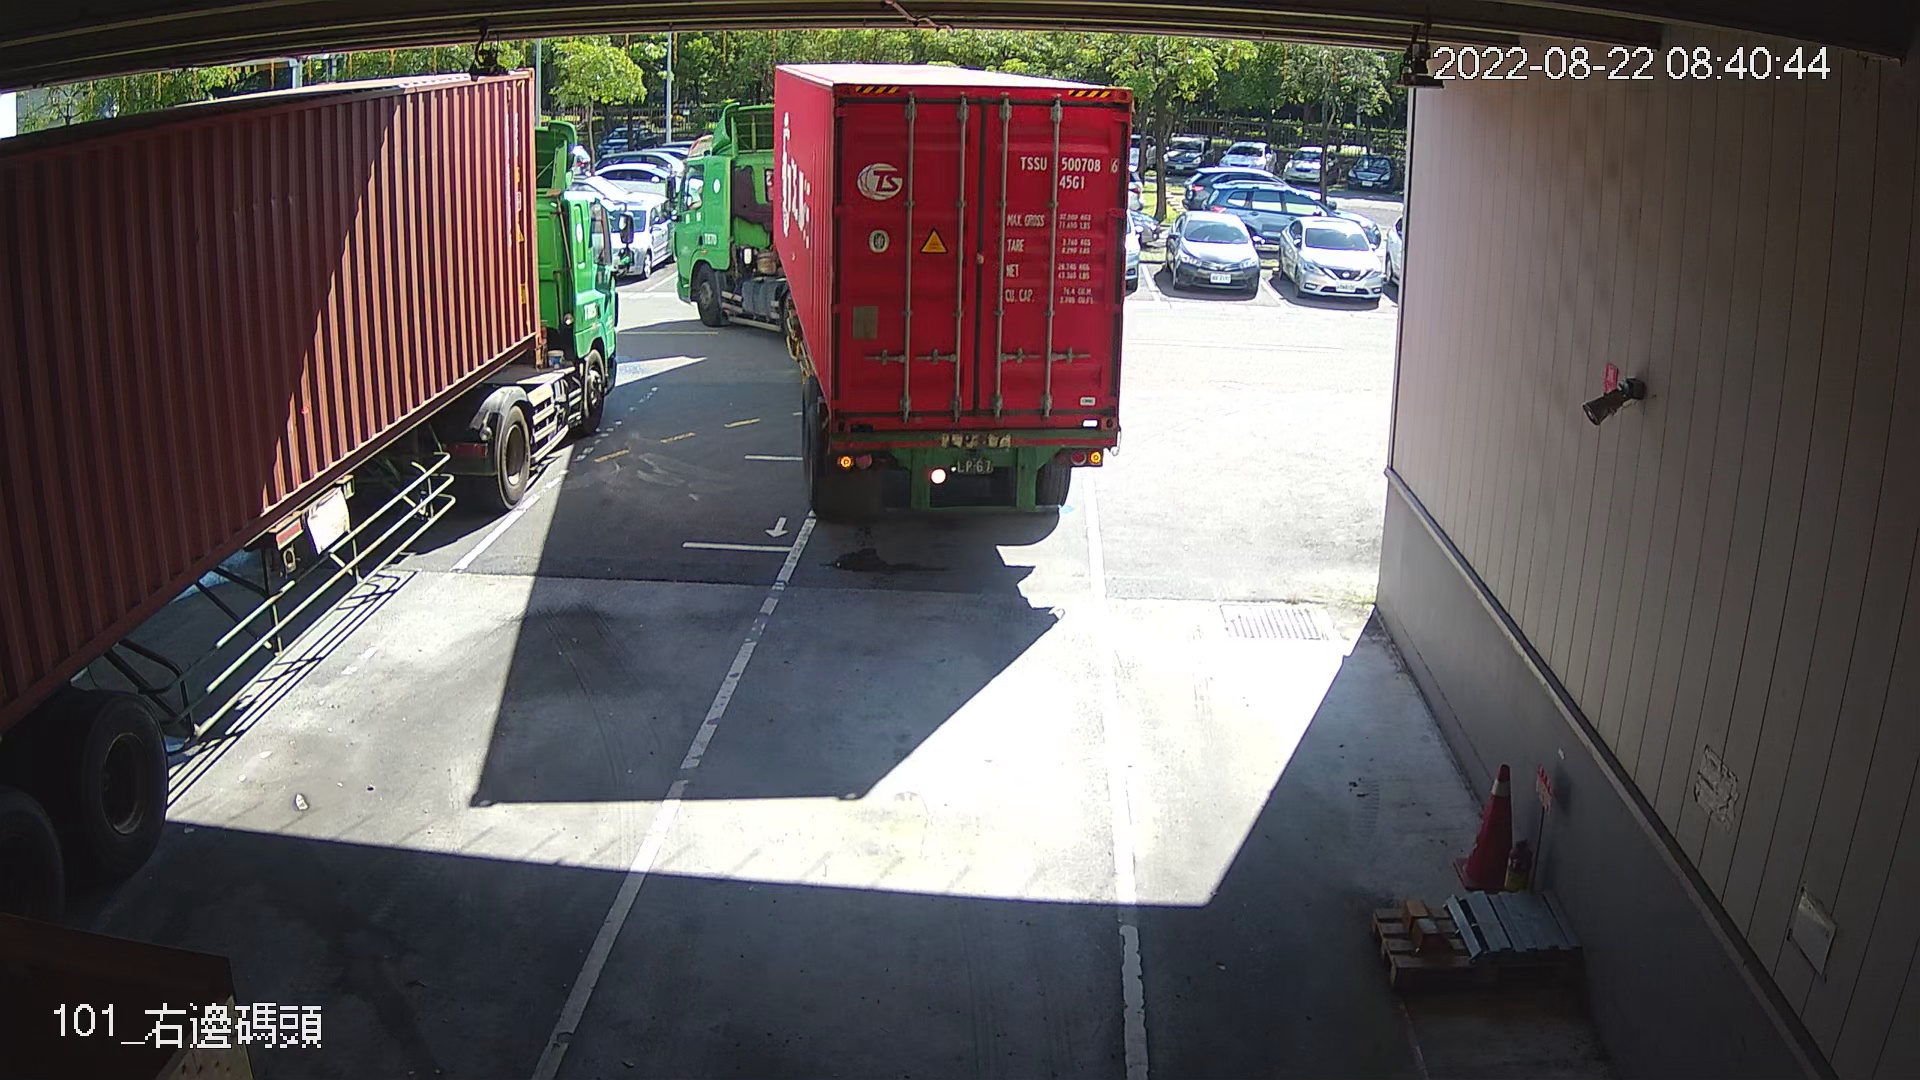container: (1013, 149, 1124, 196)
